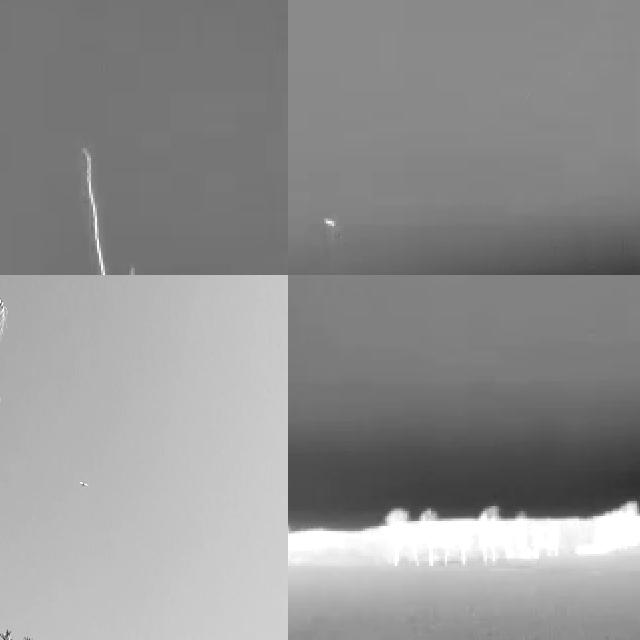1: (310, 206, 350, 251)
drone: (75, 477, 91, 490)
